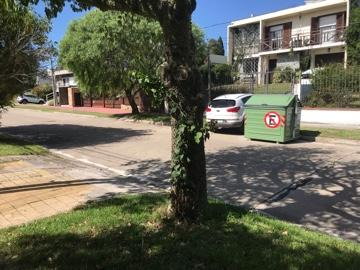Trash: (245, 94, 304, 144)
